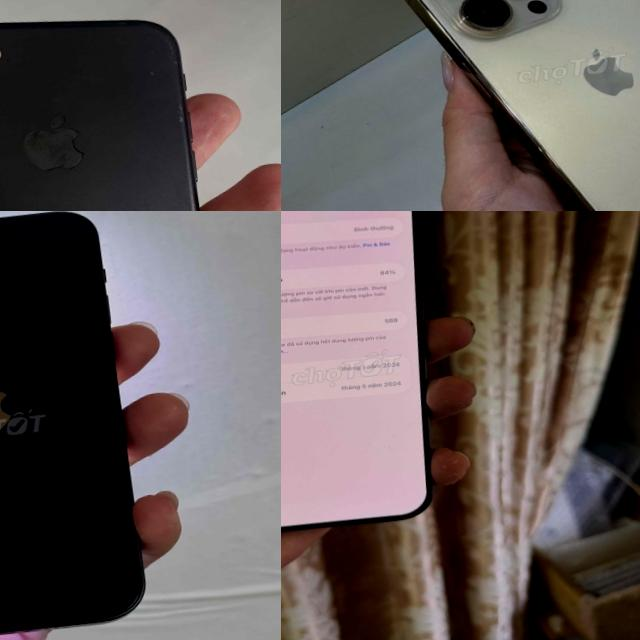gen_12_13: (0, 211, 151, 640)
gen_14: (382, 0, 640, 211)
gen_15: (281, 211, 469, 557)
gen_7_8: (0, 0, 240, 211)
scratch: (115, 11, 192, 132), (15, 109, 89, 178)
